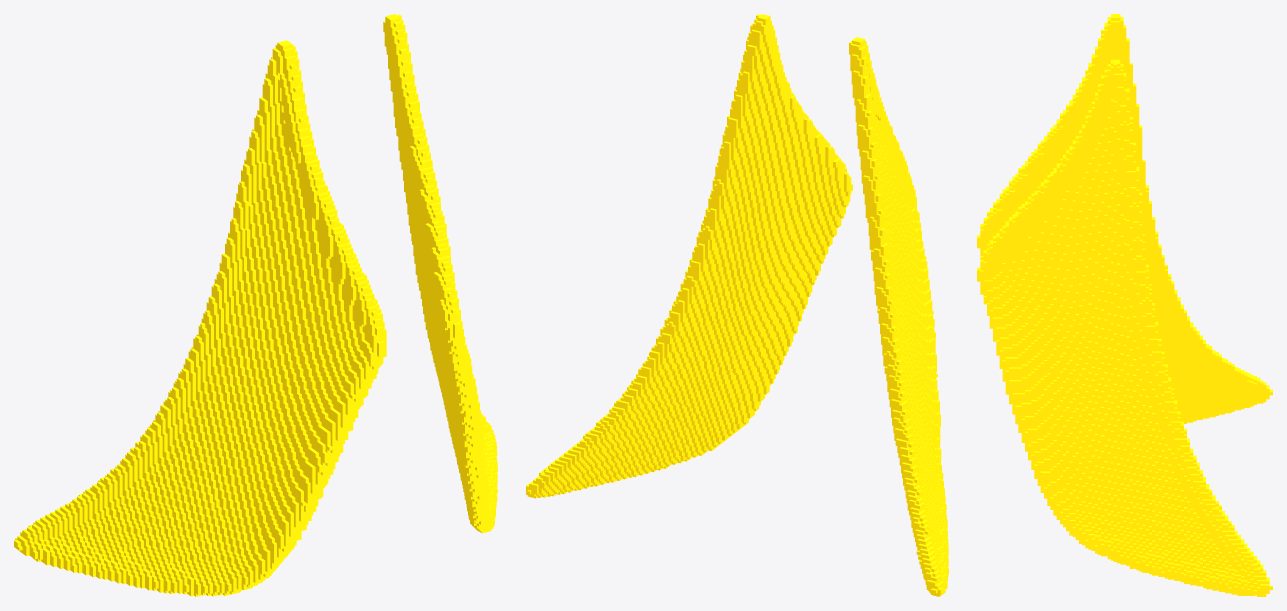
File: gold.gltf
The picture shows the model from 3 angles, left to right: view 1: azimuth 30°, elevation 25°; view 2: azimuth 150°, elevation 25°; view 3: azimuth 270°, elevation 25°; orthographic projection. The views are drawn at different scales.
Parts seen in each view (by area): view 1: 翅膀.1; view 2: 翅膀.1; view 3: 翅膀.1.
Part boxes in pixels (left/top/right/bottom): 翅膀.1: left=14, top=14, right=497, bottom=596; 翅膀.1: left=526, top=14, right=948, bottom=596; 翅膀.1: left=977, top=14, right=1272, bottom=596.
Size of the model in its own units: 17.88 by 19.2 by 11.16.
